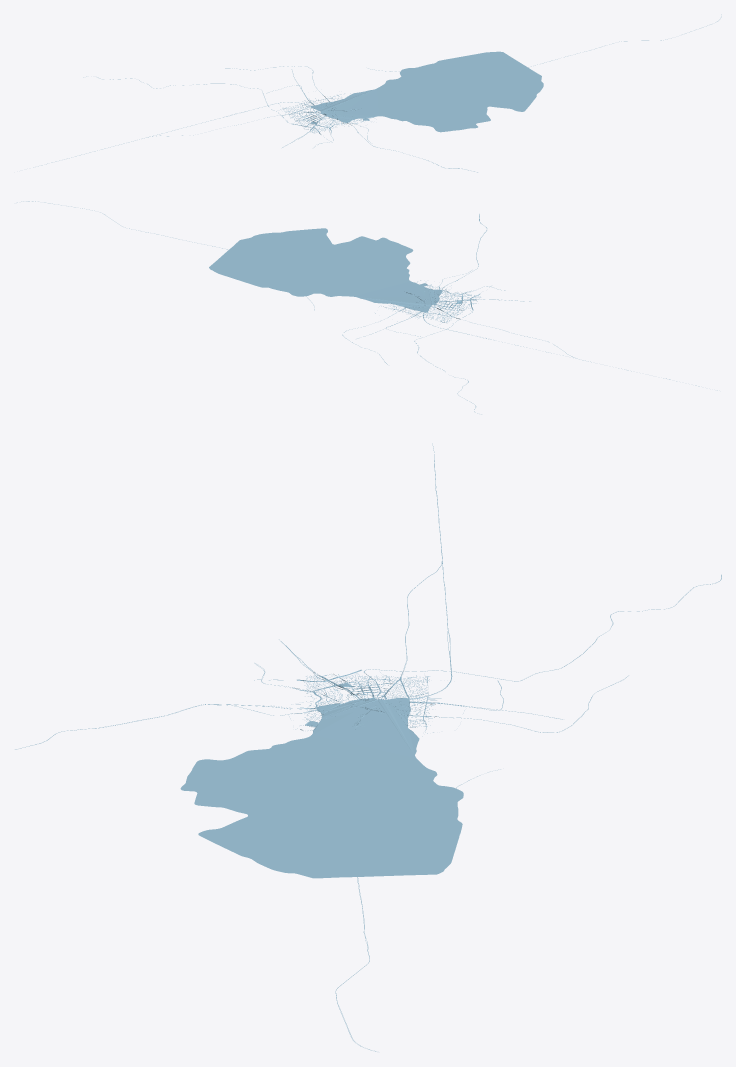
The model's file is roads.glb.
3 views of the same model, one above another, from view 1: azimuth 30°, elevation 25°; view 2: azimuth 150°, elevation 25°; view 3: azimuth 270°, elevation 25° (orthographic). The views are drawn at different scales.
Visible parts, largest first — view 1: roads; view 2: roads; view 3: roads.
Boxes of the visible parts, x1,y1,x2,y2 form: roads: (33, 14, 721, 172); roads: (17, 201, 717, 414); roads: (15, 443, 721, 1051).
Size of the model in its own units: 30968 by 49.15 by 15206.
